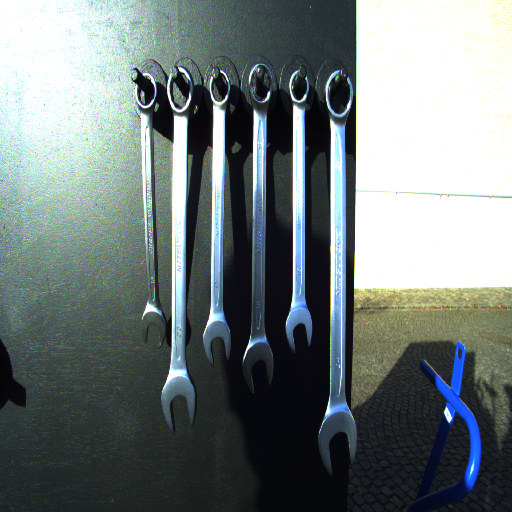bottom: (316, 404, 362, 476), (158, 377, 199, 436), (240, 341, 276, 395), (199, 320, 235, 366), (283, 309, 316, 355), (139, 308, 167, 352)
top: (322, 67, 356, 120), (165, 65, 195, 119), (246, 62, 275, 109), (285, 65, 315, 109), (131, 70, 160, 114), (207, 65, 232, 107)
